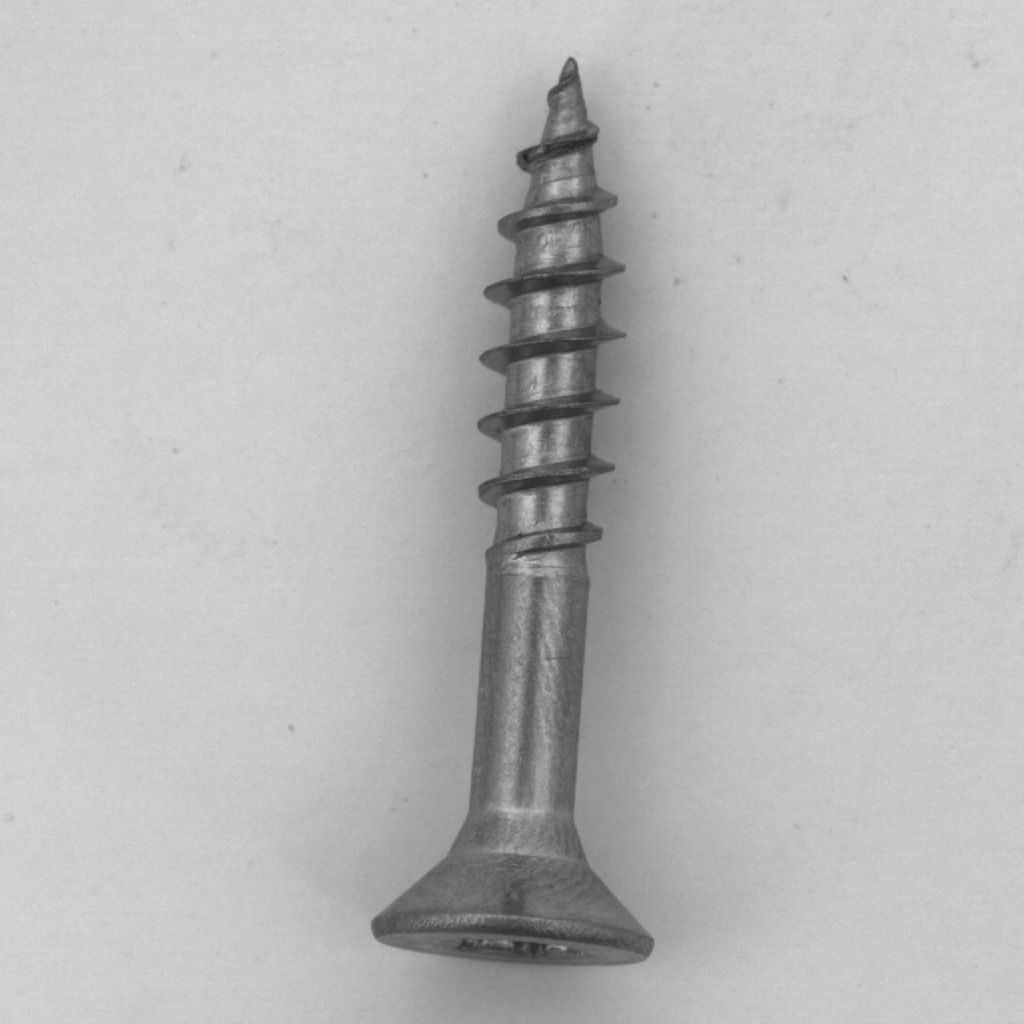good: (356, 37, 696, 986)
